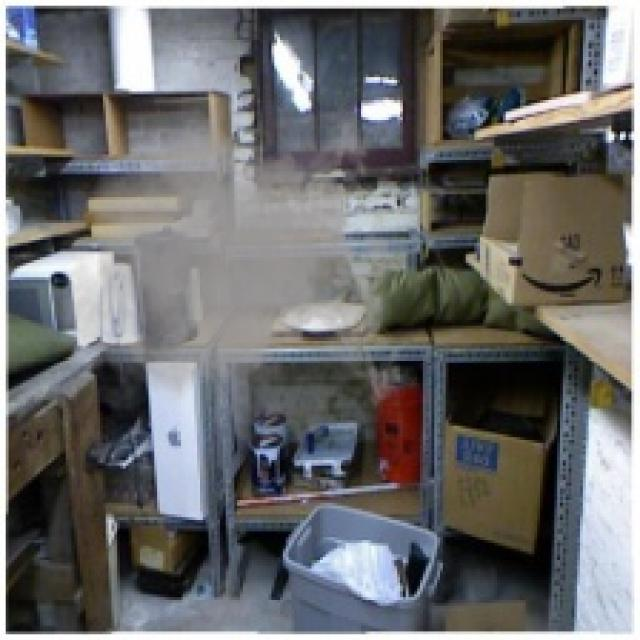smoke: (54, 60, 412, 463)
